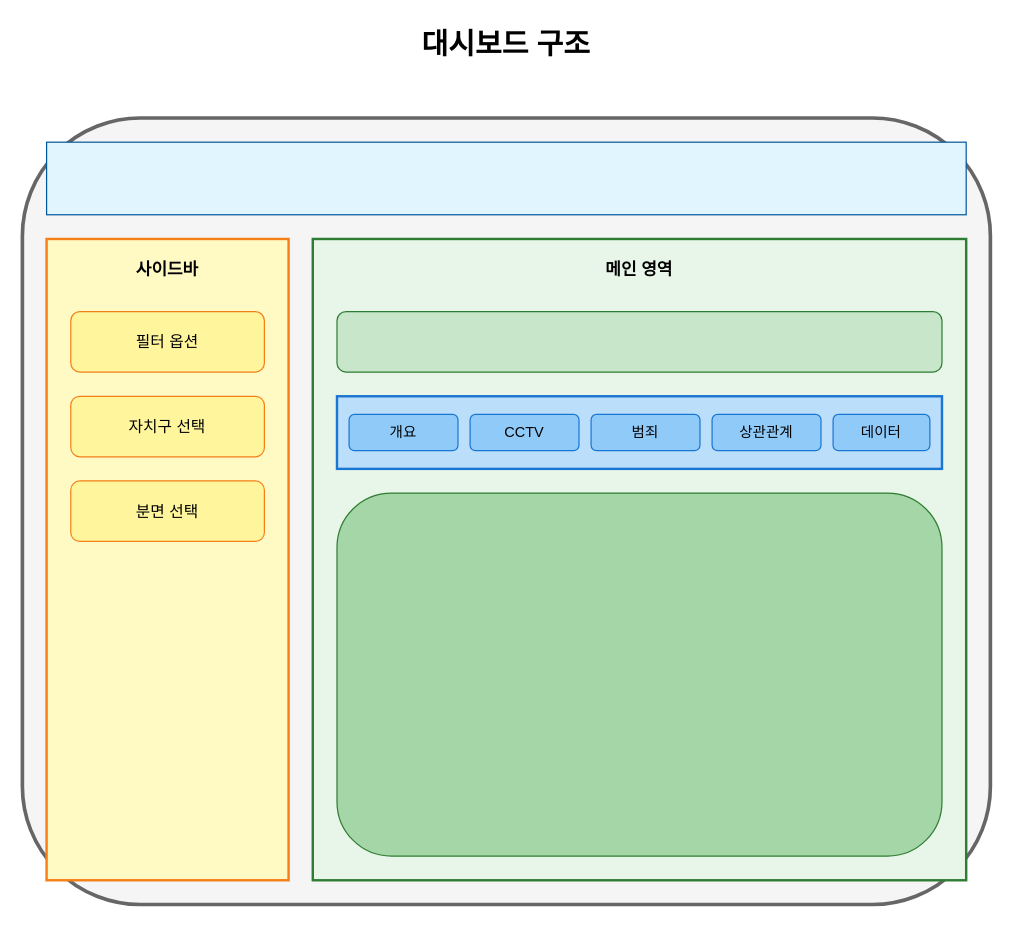
This 1013x927 diagram has some shape labels left out. The centre of each missing label's shape, as x and y in pixels:
"주요 지표" belongs at [639,341].
"차트 영역" belongs at [639,674].
"헤더" belongs at [505,178].
